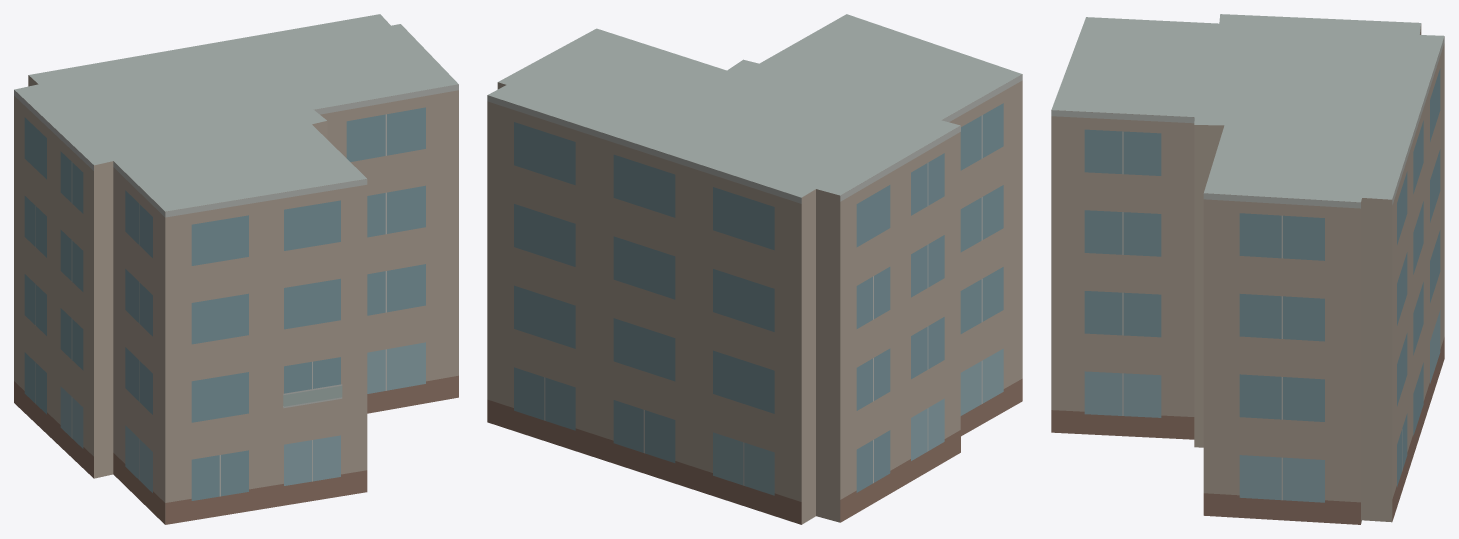
The model's file is survey-upis-32532493.glb.
The picture shows the model from 3 angles, left to right: view 1: azimuth 30°, elevation 25°; view 2: azimuth 150°, elevation 25°; view 3: azimuth 270°, elevation 25°; orthographic projection. The views are drawn at different scales.
Visible parts, largest first — view 1: survey-upis-32532493.tmp; view 2: survey-upis-32532493.tmp; view 3: survey-upis-32532493.tmp.
Boxes of the visible parts, x1,y1,x2,y2 form: survey-upis-32532493.tmp: (14, 14, 458, 524); survey-upis-32532493.tmp: (487, 14, 1022, 524); survey-upis-32532493.tmp: (1051, 14, 1444, 524).
Size of the model in its own units: 16.05 by 12.8 by 14.16.
